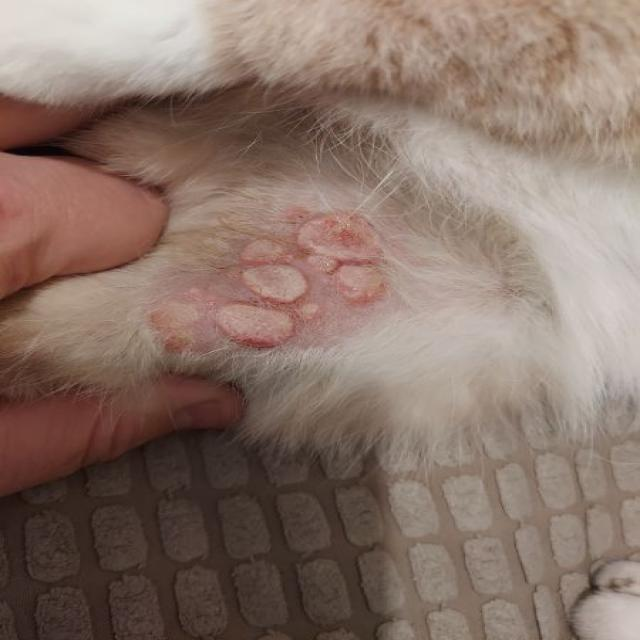cat-lump-and-bump: (172, 206, 394, 368)
